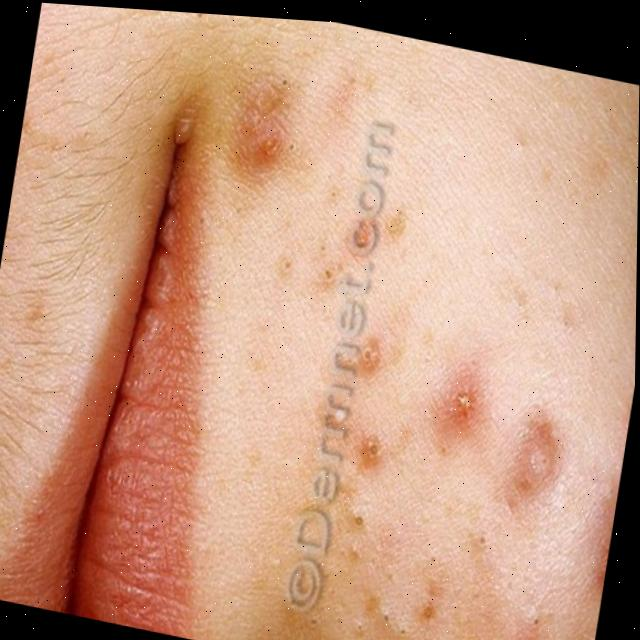Acne: (145, 46, 639, 640)
